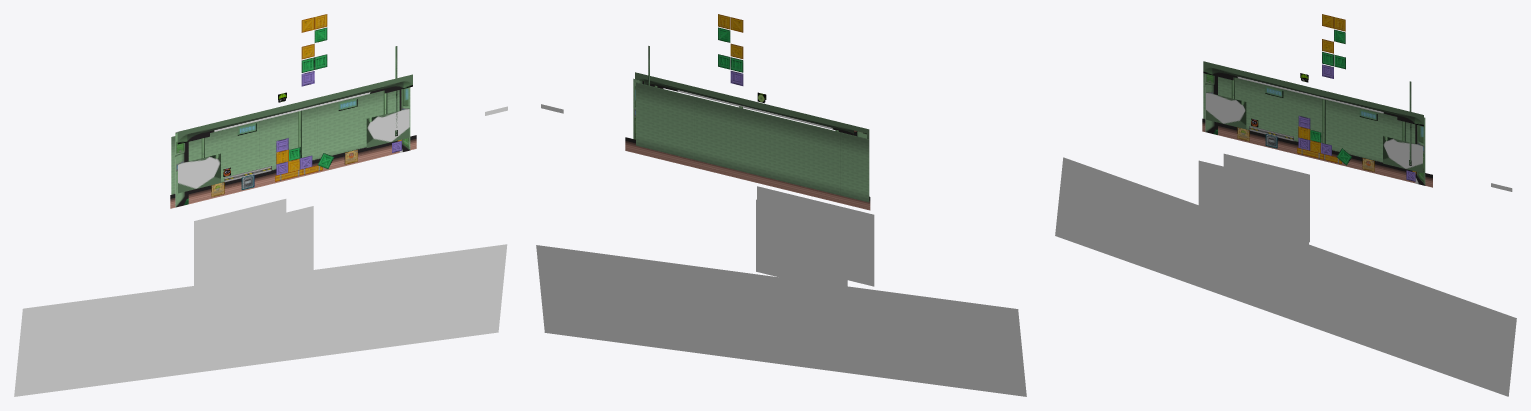
The model's file is comics2.glb.
3 renders of one model, left to right at view 1: azimuth 30°, elevation 25°; view 2: azimuth 150°, elevation 25°; view 3: azimuth 330°, elevation 25°, orthographic. The views are drawn at different scales.
Visible parts, largest first — view 1: pPlane2, pPlane1, polySurface1, polySurface37, floor, pPlane3, polySurface33, polySurface38, side_left, side_right; view 2: pPlane2, polySurface1, pPlane3, pPlane1, polySurface37, floor; view 3: pPlane2, pPlane1, polySurface1, polySurface37, floor, pPlane3, polySurface38, polySurface33, side_right, side_left.
Part boxes in pixels (x1,y1,x2,y2): pPlane2: [14, 244, 507, 396]; pPlane1: [195, 206, 313, 306]; polySurface1: [171, 90, 399, 194]; polySurface37: [177, 74, 412, 144]; floor: [170, 135, 416, 208]; pPlane3: [194, 199, 286, 293]; polySurface33: [366, 108, 409, 147]; polySurface38: [178, 153, 220, 193]; side_left: [175, 132, 188, 207]; side_right: [399, 87, 410, 152]; pPlane2: [536, 245, 1026, 396]; polySurface1: [636, 82, 869, 202]; pPlane3: [756, 199, 847, 286]; pPlane1: [757, 186, 874, 286]; polySurface37: [635, 72, 869, 138]; floor: [625, 137, 870, 210]; pPlane2: [1055, 157, 1516, 396]; pPlane1: [1198, 160, 1308, 254]; polySurface1: [1203, 73, 1415, 162]; polySurface37: [1203, 61, 1423, 126]; floor: [1202, 118, 1432, 187]; pPlane3: [1223, 153, 1309, 242]; polySurface38: [1206, 92, 1246, 129]; polySurface33: [1383, 136, 1422, 173]; side_right: [1415, 117, 1425, 185]; side_left: [1205, 73, 1217, 134].
Bounding box in the file's own units: 4283 × 3001 × 224.
6 materials, 4 textured.
